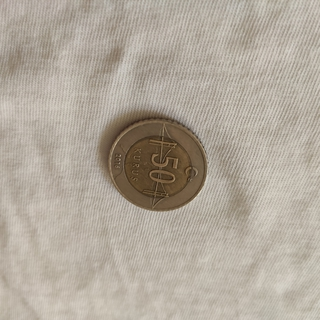50KURUS: (105, 115, 210, 213)
